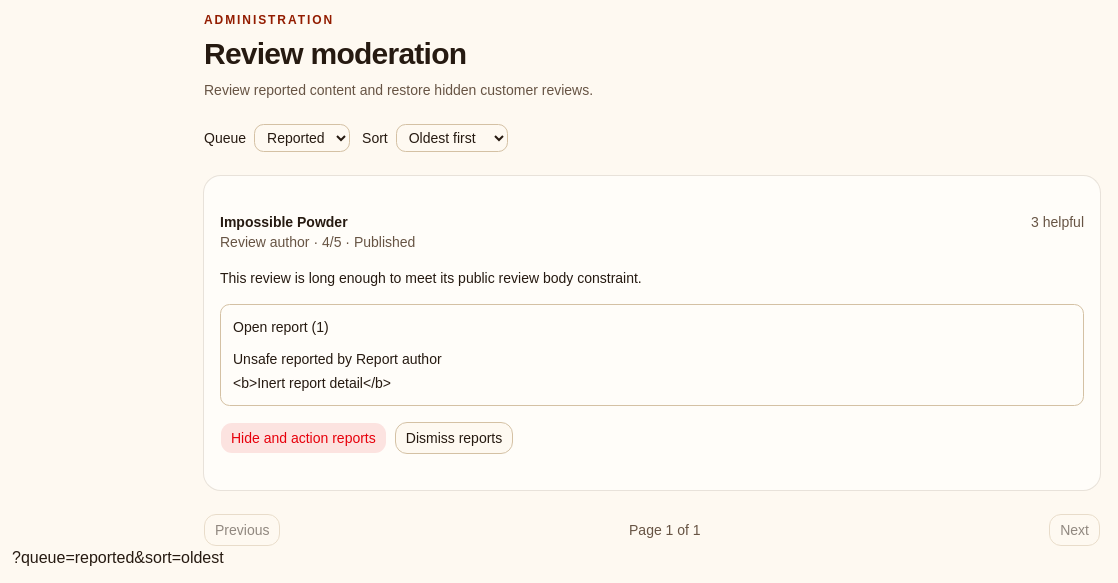
AdminReviewModerationPage › uses URL-backed queue state and renders report detail as text
Expected: the heading "Impossible Powder" is shown, [220,214,348,230]
Expected: the text "<b>Inert report detail</b>" is shown, [233,375,391,391]
Select "Hidden" in the dropdown labelled "Queue" at (302, 138), box [254,124,350,152]
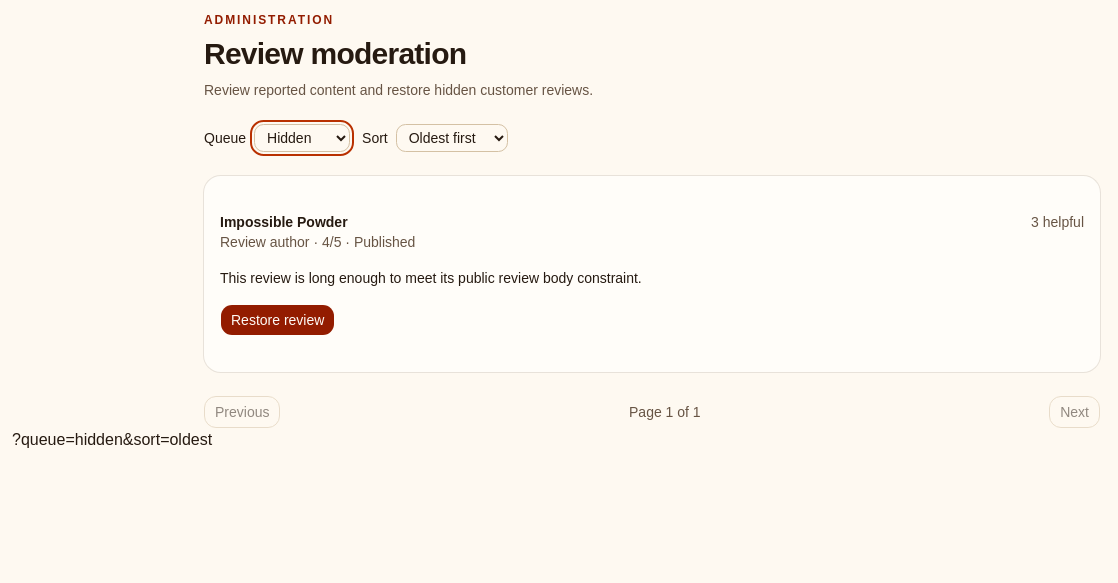
Expected: the text with test id "location" shows "queue=hidden&sort=oldest", [12,431,212,448]
